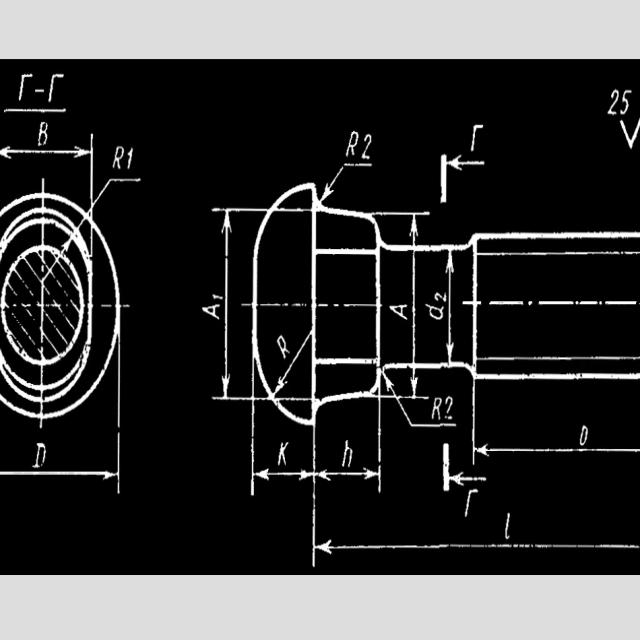marking_line: (308, 429, 640, 567), (471, 380, 640, 465), (211, 207, 251, 401), (0, 433, 120, 493), (2, 129, 95, 192), (247, 428, 317, 497), (312, 426, 383, 493), (383, 372, 459, 429), (275, 330, 311, 394), (442, 444, 487, 491), (321, 163, 373, 203), (410, 214, 419, 396), (444, 251, 454, 361), (448, 154, 489, 170), (63, 238, 71, 254)
numeric: (17, 71, 36, 101), (48, 73, 66, 103), (464, 486, 479, 517), (274, 332, 290, 359), (340, 438, 353, 471), (470, 123, 484, 152), (274, 440, 289, 467), (389, 302, 408, 322), (200, 303, 223, 319), (344, 131, 358, 156), (425, 304, 444, 322), (620, 89, 633, 114), (361, 132, 372, 161), (503, 510, 513, 540), (608, 90, 620, 115), (432, 394, 442, 422), (443, 394, 453, 422), (112, 144, 123, 169), (579, 423, 589, 445), (433, 292, 449, 304), (127, 147, 134, 170), (212, 293, 224, 300)
special_symbol: (618, 115, 640, 151)
